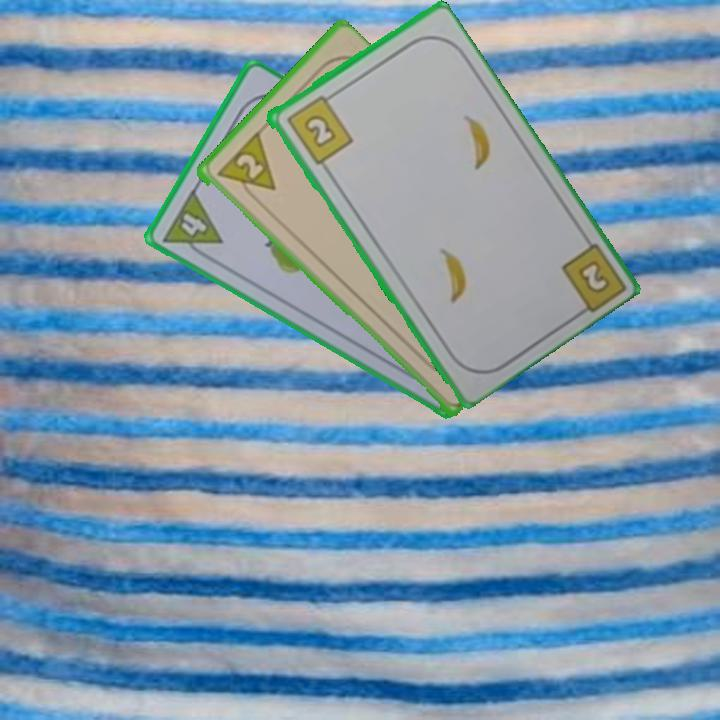2b: (282, 89, 355, 167), (574, 256, 613, 297)
2p: (213, 130, 279, 206)
4p: (159, 186, 225, 265)
